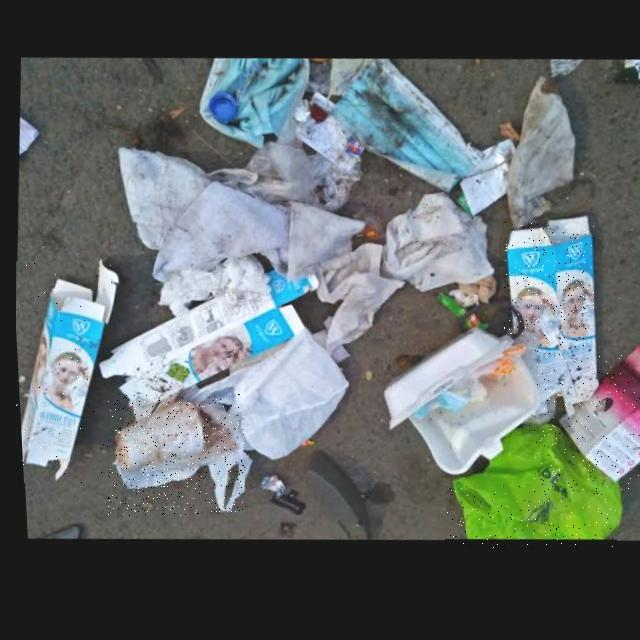paper: (95, 274, 310, 423), (17, 261, 116, 483), (505, 222, 594, 419), (551, 355, 640, 492)
plastic: (445, 430, 617, 548), (108, 395, 246, 516)
styrofoam: (377, 334, 533, 486)
